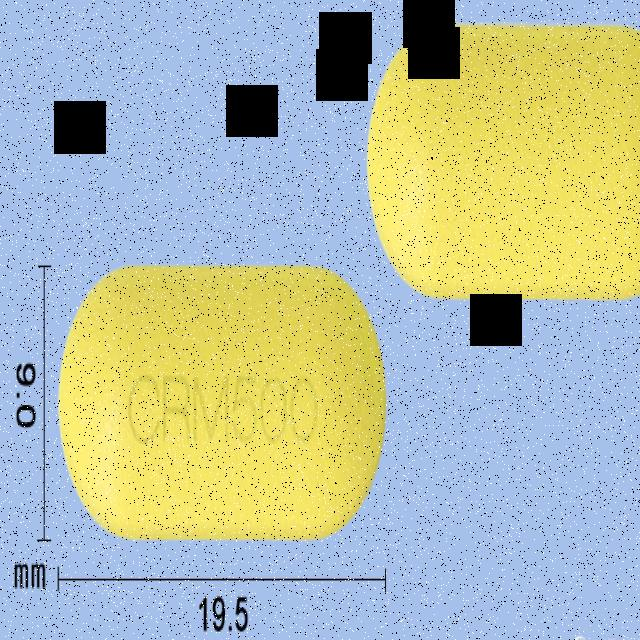Crama: (58, 262, 388, 539)
